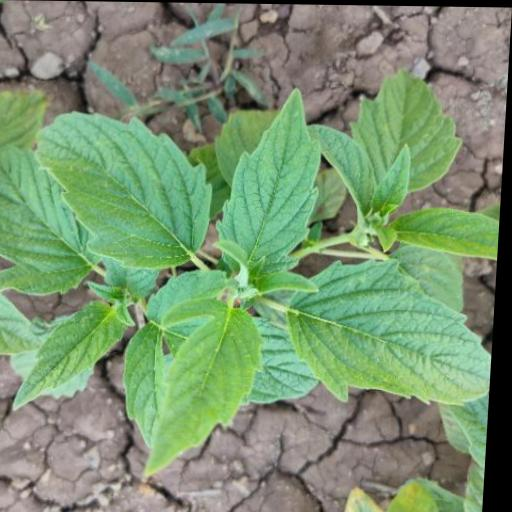crop: (13, 58, 480, 479)
